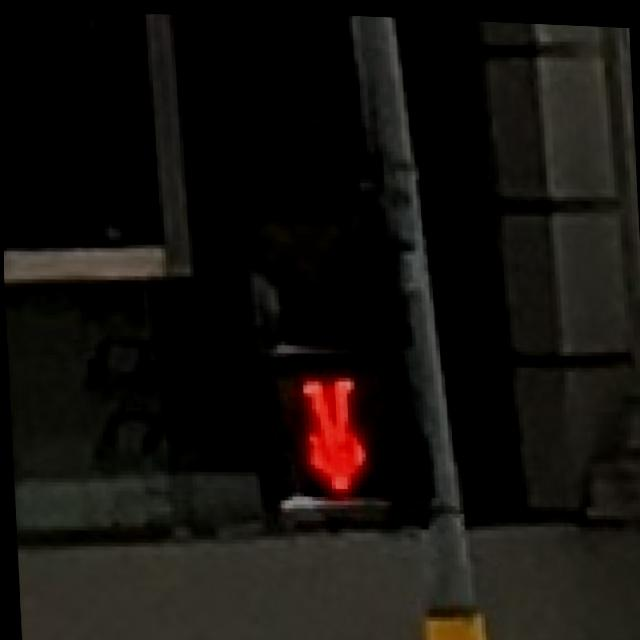red_light: (268, 364, 417, 509)
